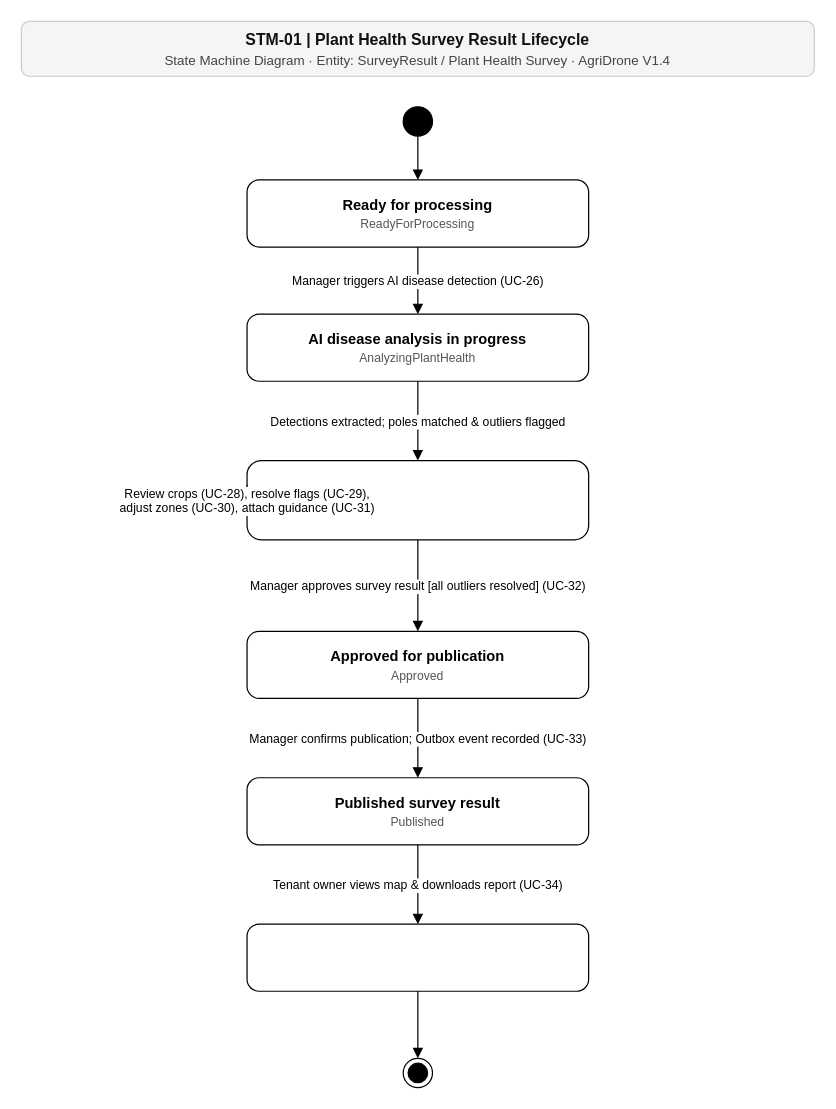
Some shapes in this 836 by 1109 pixel diagram are drawn without their labels. Here are the shapes that lost their labels. From the top down, the centre of each, then its label:
point 417,499: Awaiting preliminary review PendingReview
point 417,957: Survey completed & delivered Completed
